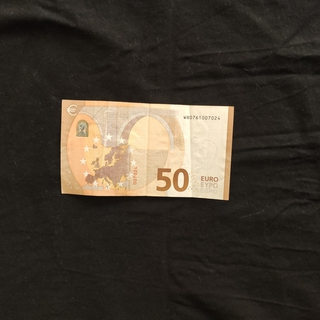50EUROBack: (60, 98, 235, 201)
